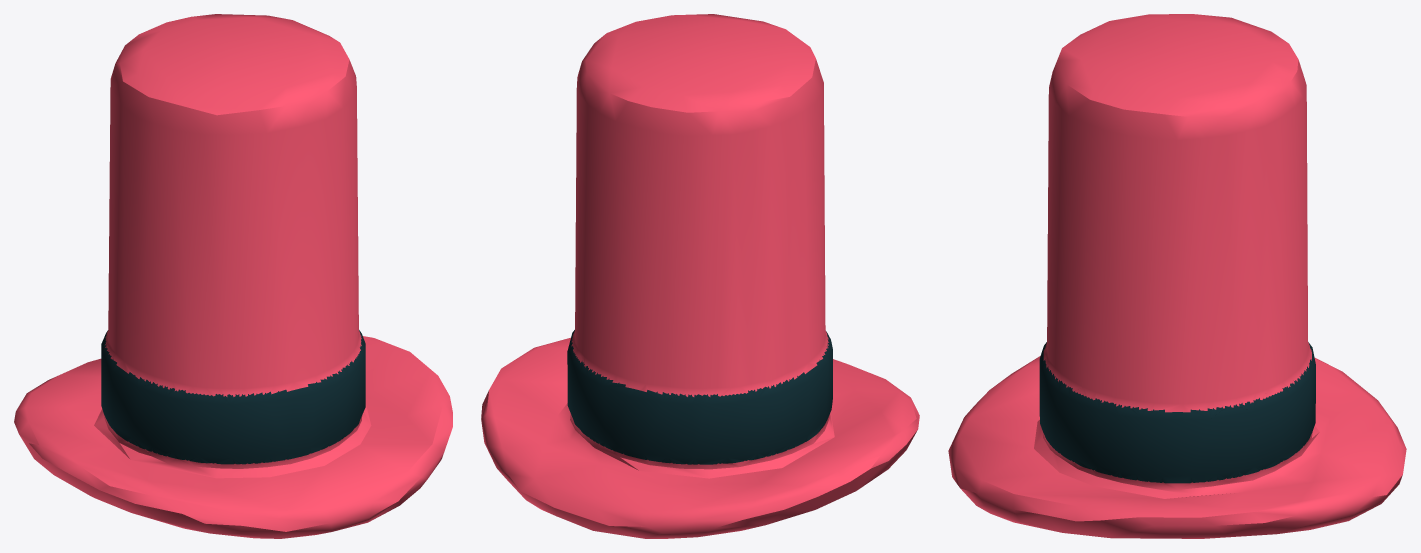
File: hat-low.glb
The picture shows the model from 3 angles, left to right: view 1: azimuth 30°, elevation 25°; view 2: azimuth 150°, elevation 25°; view 3: azimuth 270°, elevation 25°; orthographic projection. The views are drawn at different scales.
Parts seen in each view (by area): view 1: hat-low; view 2: hat-low; view 3: hat-low.
Part boxes in pixels (bbox=[...]): hat-low: bbox=[14, 14, 452, 538]; hat-low: bbox=[481, 14, 919, 538]; hat-low: bbox=[948, 14, 1406, 538].
Size of the model in its own units: 0.957 by 0.9704 by 0.9599.
